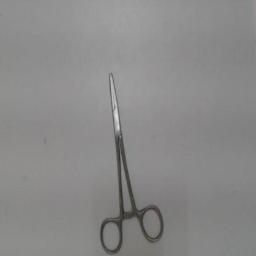Mayo Needle Holder: (96, 64, 168, 256)
